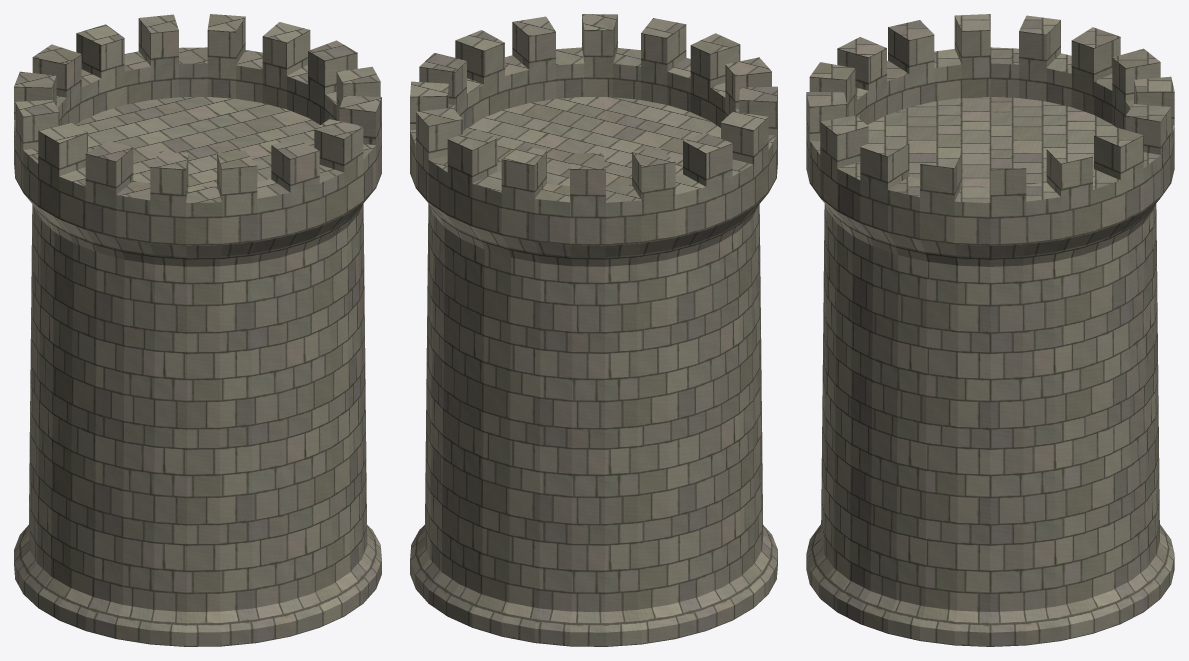
The model's file is Furn_Tower2_Round.fbx.
The picture shows the model from 3 angles, left to right: view 1: azimuth 30°, elevation 25°; view 2: azimuth 150°, elevation 25°; view 3: azimuth 270°, elevation 25°; orthographic projection.
Parts seen in each view (by area): view 1: Furn_Tower2_Round; view 2: Furn_Tower2_Round; view 3: Furn_Tower2_Round.
Part boxes in pixels (bbox=[...]): Furn_Tower2_Round: bbox=[14, 14, 381, 646]; Furn_Tower2_Round: bbox=[410, 14, 777, 646]; Furn_Tower2_Round: bbox=[806, 14, 1174, 646].
Bounding box in the file's own units: 7 × 10 × 7.
